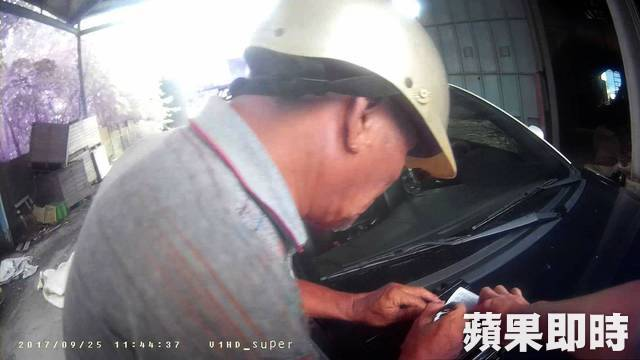helmet: (239, 8, 471, 158)
